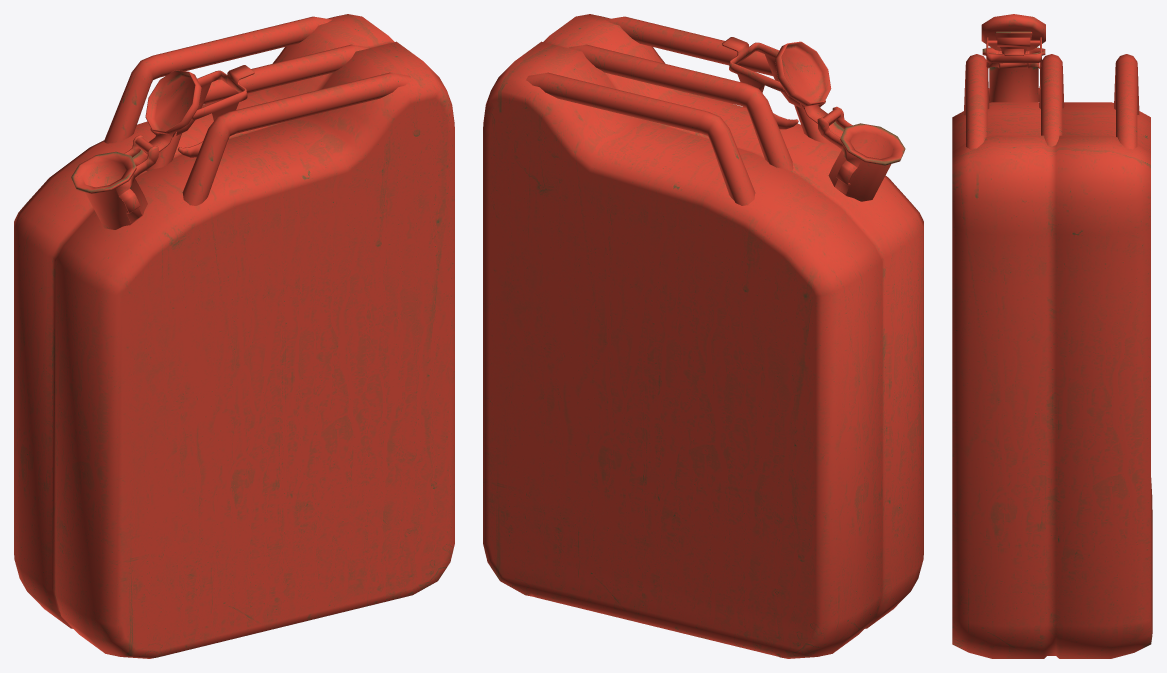
File: Gas_Canister.fbx
The picture shows the model from 3 angles, left to right: view 1: azimuth 30°, elevation 25°; view 2: azimuth 150°, elevation 25°; view 3: azimuth 270°, elevation 25°; orthographic projection. The views are drawn at different scales.
Visible parts, largest first — view 1: Gas_Canister, Cap, Cap_lock; view 2: Gas_Canister, Cap, Cap_lock; view 3: Gas_Canister, Cap, Cap_lock.
Boxes of the visible parts, x1,y1,x2,y2 form: Gas_Canister: (14,14,454,658); Cap: (135,70,201,153); Cap_lock: (150,65,254,157); Gas_Canister: (483,14,923,658); Cap: (775,41,841,125); Cap_lock: (722,37,825,129); Gas_Canister: (952,47,1152,658); Cap: (981,14,1045,63); Cap_lock: (986,37,1041,89).
Bounding box in the file's own units: 34.29 × 50.19 × 16.64.
1 material, 1 textured.
